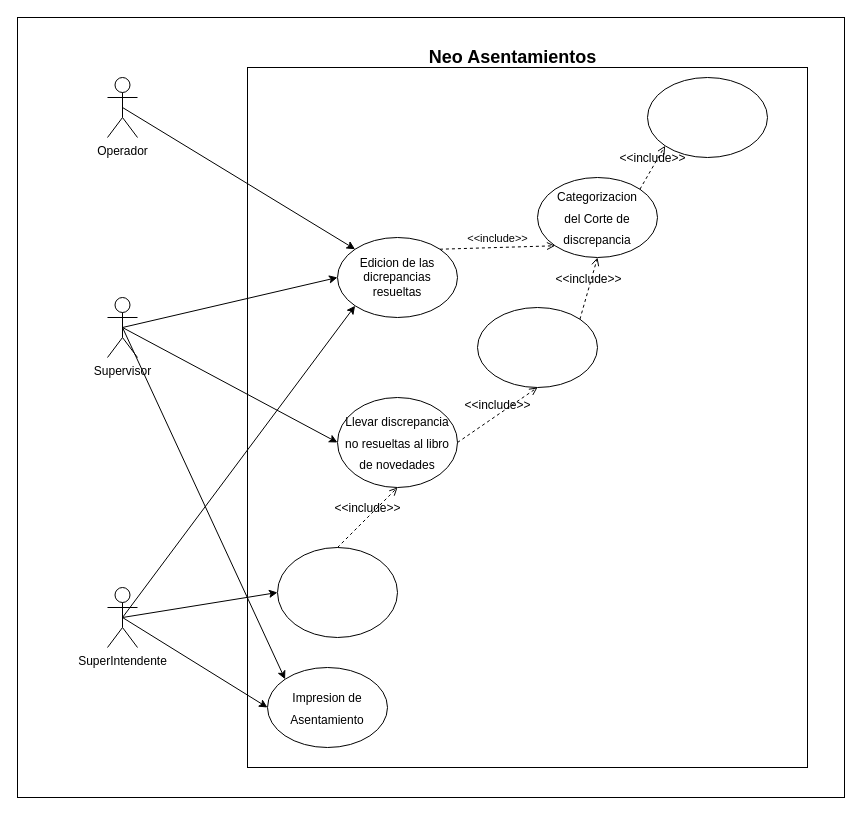
The diagram is 862 pixels wide and 815 high, and some of its shapes have lost their labels. The centre of each missing label's shape, as x and y in pixels:
"Acción Correctiva de la discrepancia C.D" belongs at pixel 537 347.
"Ingreso de Data en el sistema" belongs at pixel 707 117.
"Llevar discrepancia a la reunion diaria" belongs at pixel 337 592.
